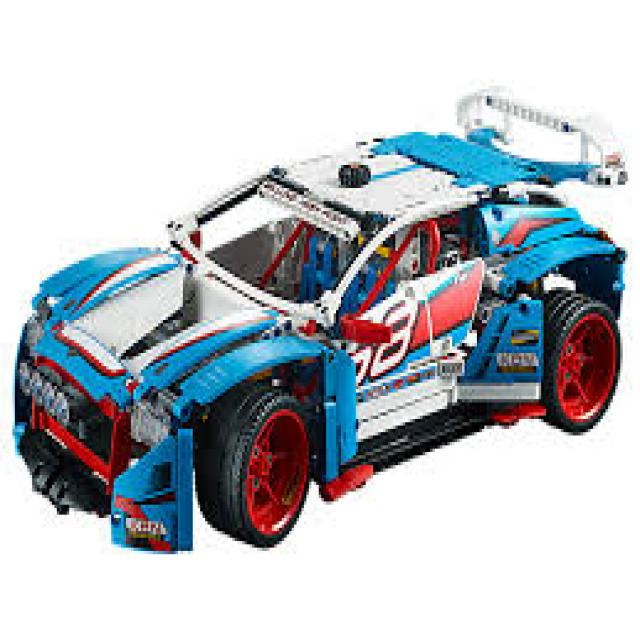Car: (0, 96, 633, 547)
